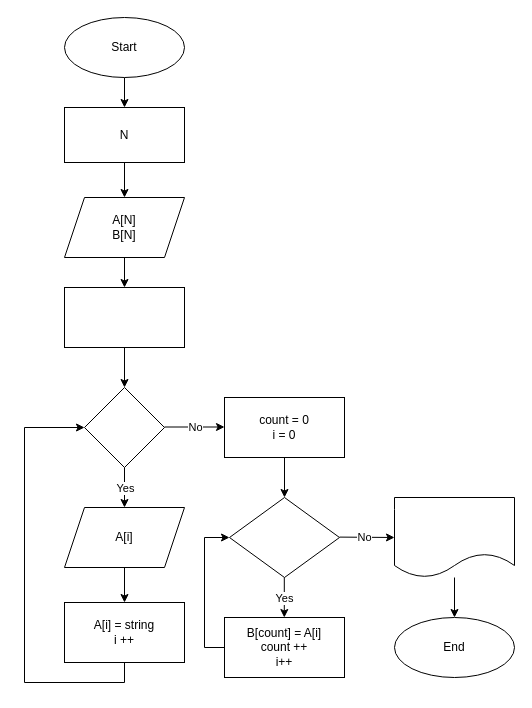
Image size: 532x708. Some labels were removed from this diagram. Here are the shapes that lost their labels. From the top down, the box of each, then its label:
(64, 286, 184, 348): i = 0
(84, 386, 164, 468): i < N
(228, 496, 340, 578): A[i].length <=3
(394, 496, 514, 578): A[string] B[string]
